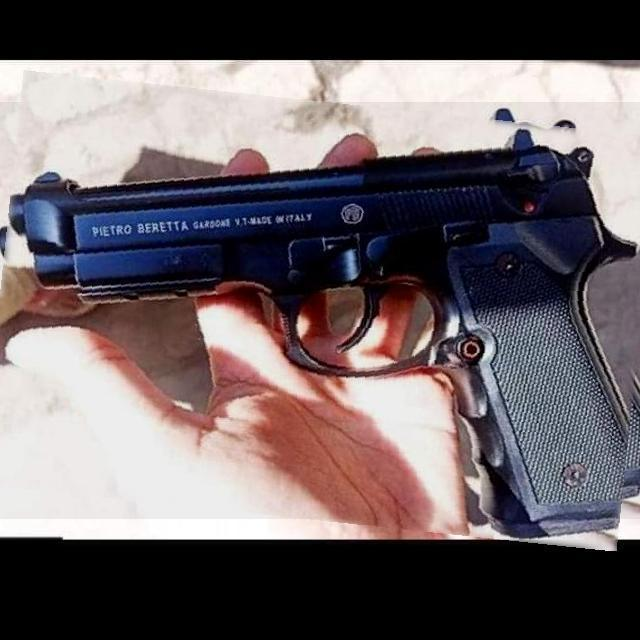rifle: (0, 105, 640, 521)
